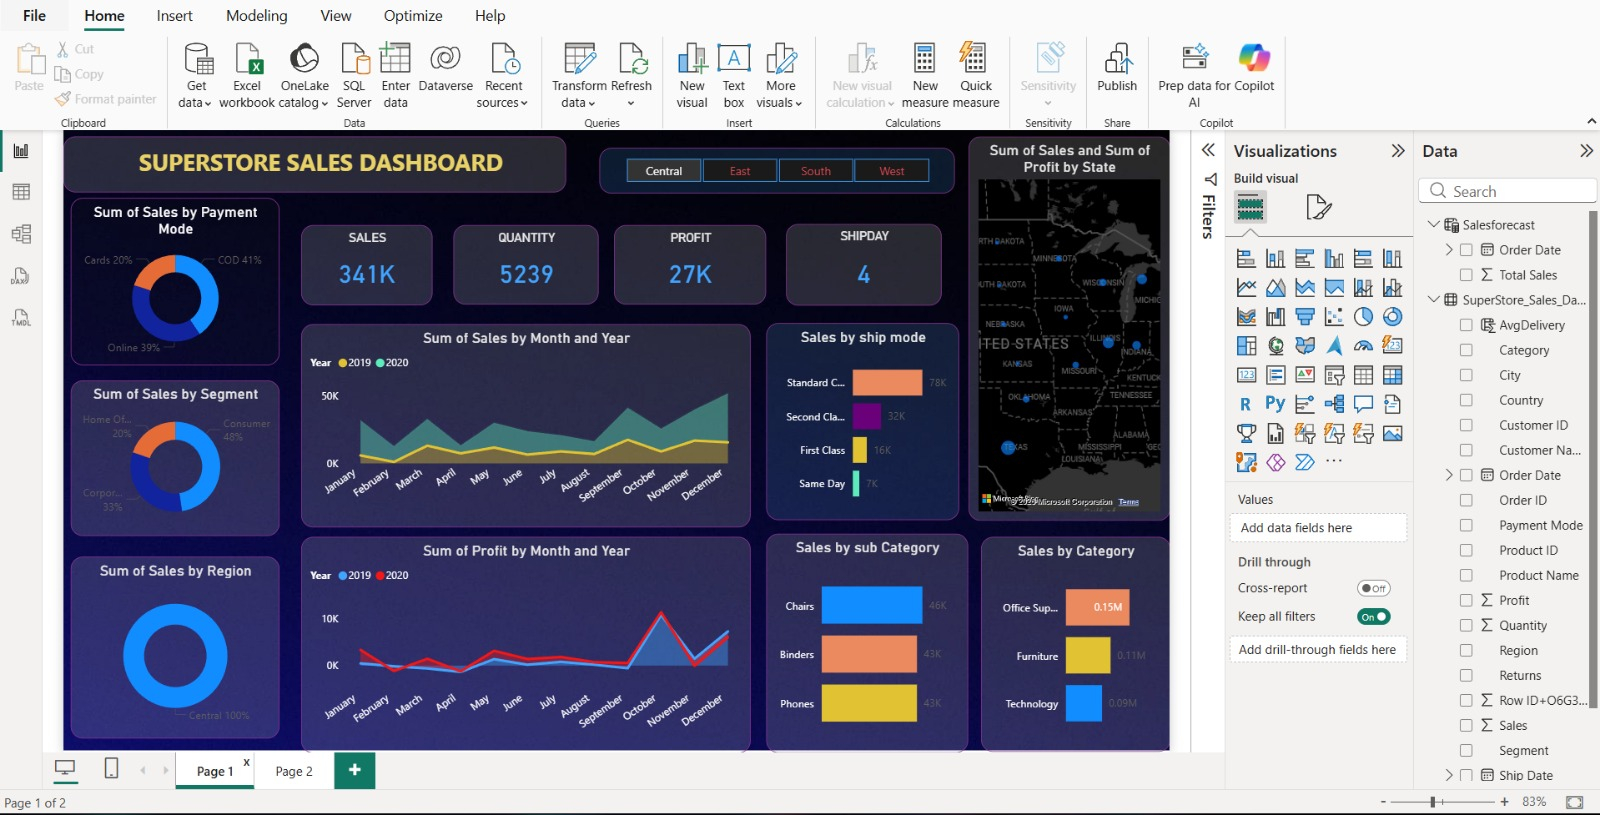

Layout of this report page (visuals, bound fields, positions):
{"tool":"powerbi","page":{"name":"Page 1","canvas":[1280,720],"ordinal":0},"visuals":[{"type":"clusteredBarChart","title":" Sales by Category","fields":{"Category":["SuperStore_Sales_Dataset.Category"],"Y":["Sum(SuperStore_Sales_Dataset.Sales)"]},"box":[1061.1,471.1,218.9,248.9],"z":0},{"type":"clusteredBarChart","title":" Sales by sub Category","fields":{"Category":["SuperStore_Sales_Dataset.Sub-Category"],"Y":["Sum(SuperStore_Sales_Dataset.Sales)"]},"box":[813.3,466.7,233.3,253.3],"z":1000},{"type":"clusteredBarChart","title":" Sales by ship mode","fields":{"Category":["SuperStore_Sales_Dataset.Ship Mode"],"Y":["Sum(SuperStore_Sales_Dataset.Sales)"]},"box":[813.3,223.3,223.3,228.3],"z":2000},{"type":"stackedAreaChart","fields":{"Y":["Sum(SuperStore_Sales_Dataset.Sales)"],"Category":["SuperStore_Sales_Dataset.Order Date.Variation.Date Hierarchy.Month","SuperStore_Sales_Dataset.Order Date.Variation.Date Hierarchy.Day"],"Series":["SuperStore_Sales_Dataset.Order Date.Variation.Date Hierarchy.Year"]},"box":[275,225,520,235],"z":3000},{"type":"stackedAreaChart","fields":{"Category":["SuperStore_Sales_Dataset.Order Date.Variation.Date Hierarchy.Month","SuperStore_Sales_Dataset.Order Date.Variation.Date Hierarchy.Day"],"Series":["SuperStore_Sales_Dataset.Order Date.Variation.Date Hierarchy.Year"],"Y":["Sum(SuperStore_Sales_Dataset.Profit)"]},"box":[275,470,520,250],"z":4000},{"type":"map","fields":{"Category":["SuperStore_Sales_Dataset.State"],"Size":["Sum(SuperStore_Sales_Dataset.Sales)"]},"box":[1046.7,7.8,233.3,444.4],"z":5000},{"type":"donutChart","fields":{"Category":["SuperStore_Sales_Dataset.Segment"],"Y":["Sum(SuperStore_Sales_Dataset.Sales)"]},"box":[8.3,290,241.7,180],"z":6000},{"type":"donutChart","fields":{"Category":["SuperStore_Sales_Dataset.Region"],"Y":["Sum(SuperStore_Sales_Dataset.Sales)"]},"box":[8.3,493.3,241.7,210],"z":7000},{"type":"donutChart","fields":{"Category":["SuperStore_Sales_Dataset.Payment Mode"],"Y":["Sum(SuperStore_Sales_Dataset.Sales)"]},"box":[8.3,78.3,241.7,193.3],"z":8000},{"type":"slicer","fields":{"Values":["SuperStore_Sales_Dataset.Region"]},"box":[620,20,411.2,52.5],"z":9000},{"type":"textbox","box":[0,7.5,581.2,65],"z":10000},{"type":"card","title":"SALES","fields":{"Values":["Sum(SuperStore_Sales_Dataset.Sales)"]},"box":[275.5,110,151.8,92.7],"z":11000},{"type":"card","title":"PROFIT","fields":{"Values":["Sum(SuperStore_Sales_Dataset.Profit)"]},"box":[637.3,110,176.4,91.8],"z":12000},{"type":"card","title":"QUANTITY","fields":{"Values":["Sum(SuperStore_Sales_Dataset.Quantity)"]},"box":[450.9,110,168.2,91.8],"z":13000},{"type":"card","title":"SHIPDAY","fields":{"Values":["Avg(SuperStore_Sales_Dataset.AvgDelivery)"]},"box":[836,108,180,94],"z":14000}]}

Visuals, with their boxes on the page's 1280x720 design canvas (x1, y1, x2, y2). These are canvas units, not pixel positions in the 1600x815 screenshot, which may show the page scaled, cropped or inside an application window:
" Sales by Category" clusteredBarChart: 1061,471,1280,720
" Sales by sub Category" clusteredBarChart: 813,467,1047,720
" Sales by ship mode" clusteredBarChart: 813,223,1037,452
stackedAreaChart - Sum(SuperStore_Sales_Dataset.Sales) x SuperStore_Sales_Dataset.Order Date.Variation.Date Hierarchy.Month: 275,225,795,460
stackedAreaChart - SuperStore_Sales_Dataset.Order Date.Variation.Date Hierarchy.Month x SuperStore_Sales_Dataset.Order Date.Variation.Date Hierarchy.Day: 275,470,795,720
map - SuperStore_Sales_Dataset.State x Sum(SuperStore_Sales_Dataset.Sales): 1047,8,1280,452
donutChart - SuperStore_Sales_Dataset.Segment x Sum(SuperStore_Sales_Dataset.Sales): 8,290,250,470
donutChart - SuperStore_Sales_Dataset.Region x Sum(SuperStore_Sales_Dataset.Sales): 8,493,250,703
donutChart - SuperStore_Sales_Dataset.Payment Mode x Sum(SuperStore_Sales_Dataset.Sales): 8,78,250,272
slicer - SuperStore_Sales_Dataset.Region: 620,20,1031,72
textbox: 0,8,581,72
"SALES" card: 276,110,427,203
"PROFIT" card: 637,110,814,202
"QUANTITY" card: 451,110,619,202
"SHIPDAY" card: 836,108,1016,202
